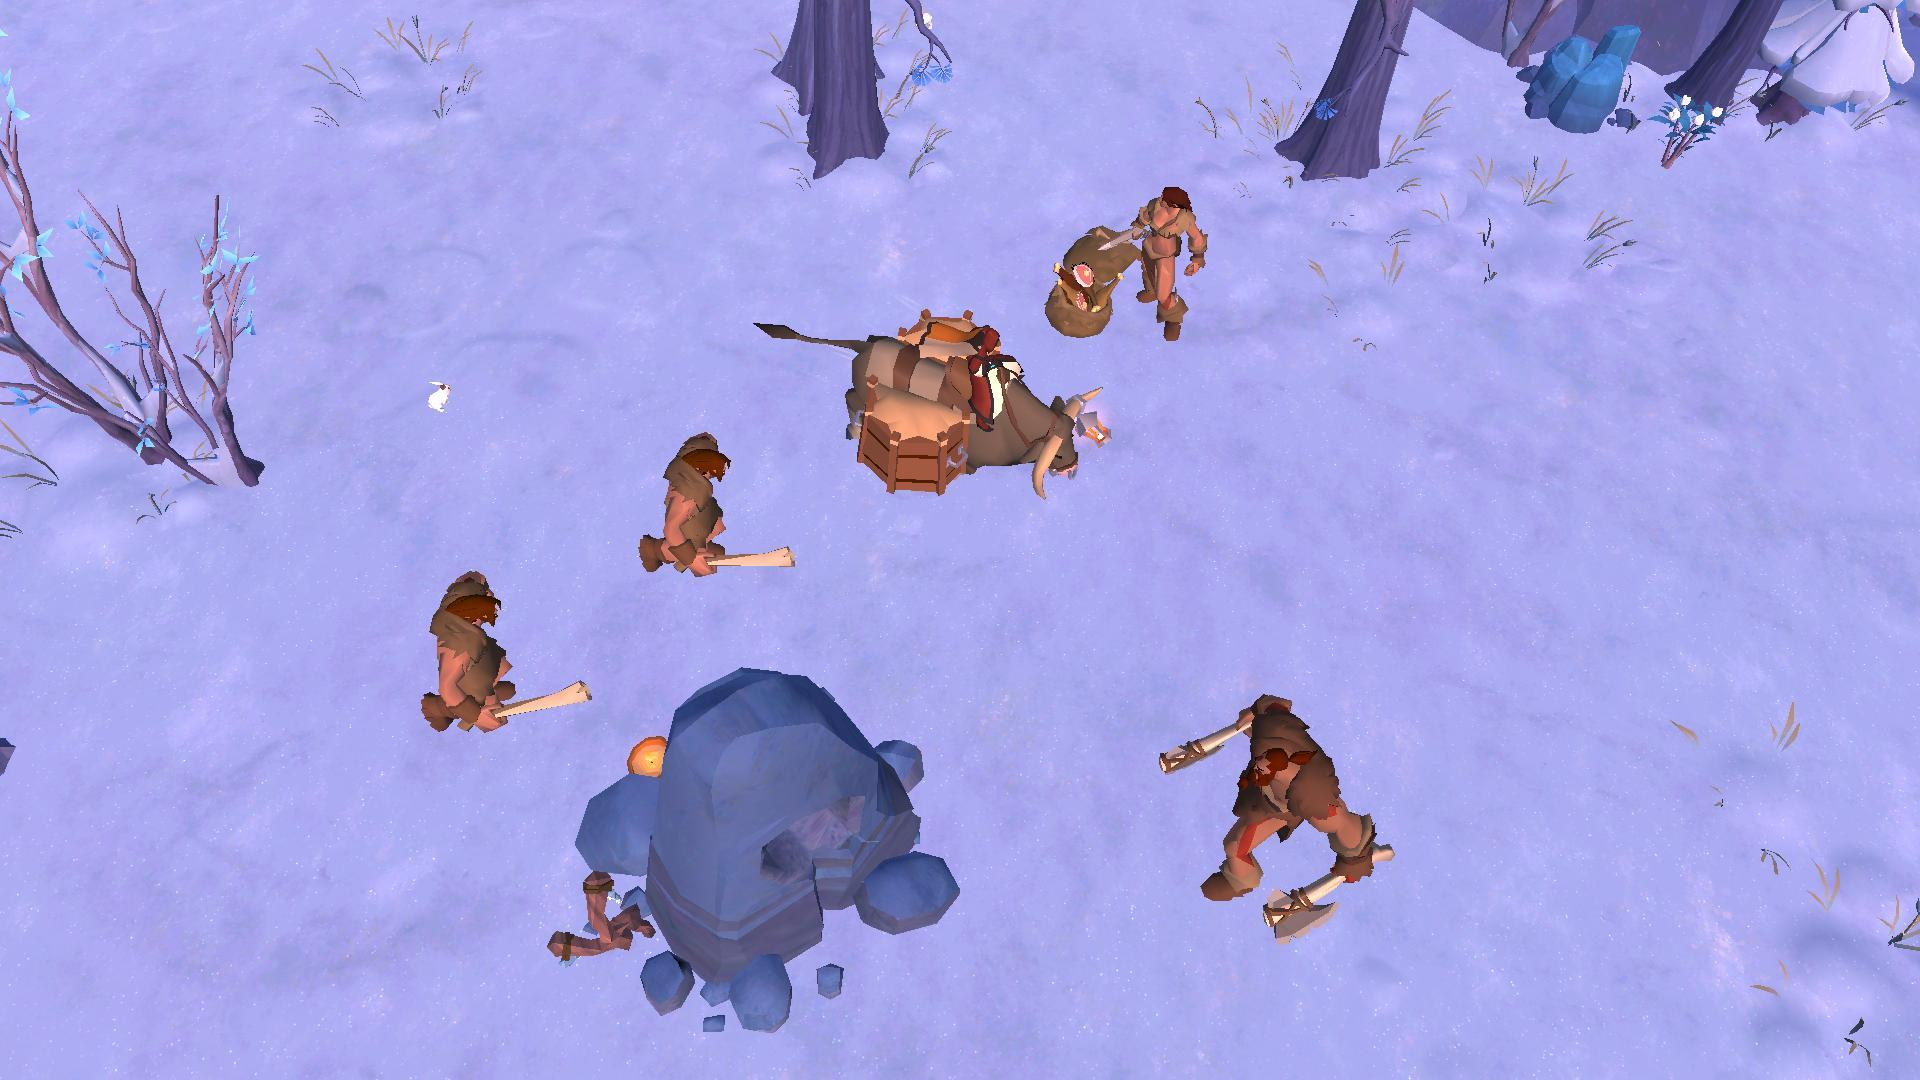enemy_factionKeeper: (1147, 700, 1391, 949), (415, 574, 601, 753), (640, 434, 790, 601), (1097, 179, 1207, 336)
fiber_t4: (1655, 92, 1726, 173)
rock_t4: (1515, 28, 1646, 131)
